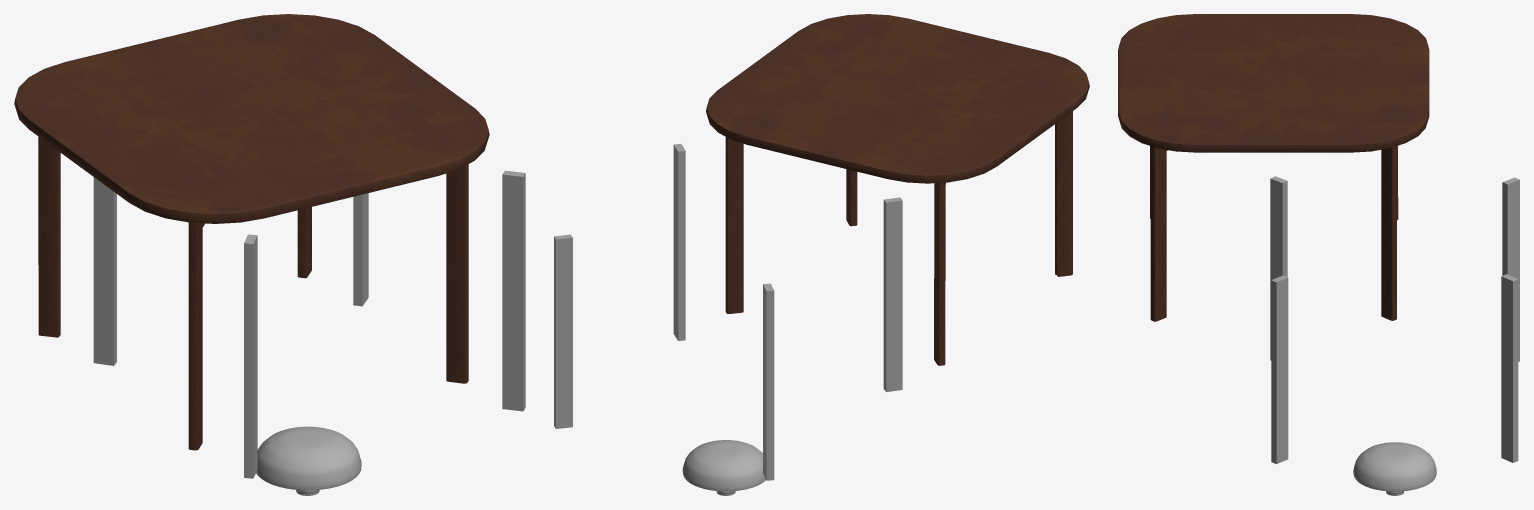
The model's file is SM_TableN.fbx.
The picture shows the model from 3 angles, left to right: view 1: azimuth 30°, elevation 25°; view 2: azimuth 150°, elevation 25°; view 3: azimuth 270°, elevation 25°; orthographic projection. The views are drawn at different scales.
Visible parts, largest first — view 1: TableN, pCube11, pCylinder5, pCube14, pCube13, pCube12; view 2: TableN, pCube13, pCube12, pCylinder5, pCube11, pCube14; view 3: TableN, pCylinder5, pCube12, pCube11, pCube13, pCube14.
Boxes of the visible parts, x1,y1,x2,y2 form: TableN: [14, 14, 489, 450]; pCube11: [502, 170, 525, 411]; pCylinder5: [256, 426, 361, 495]; pCube14: [93, 177, 116, 365]; pCube13: [244, 234, 257, 478]; pCube12: [353, 193, 368, 306]; TableN: [706, 14, 1089, 365]; pCube13: [883, 197, 902, 392]; pCube12: [554, 234, 572, 428]; pCylinder5: [682, 440, 765, 495]; pCube11: [673, 144, 685, 340]; pCube14: [763, 283, 774, 480]; TableN: [1118, 14, 1429, 321]; pCylinder5: [1353, 442, 1436, 495]; pCube12: [1501, 274, 1518, 462]; pCube11: [1271, 275, 1288, 463]; pCube13: [1270, 176, 1287, 360]; pCube14: [1502, 177, 1519, 361].
Size of the model in its own units: 177 by 176 by 176.
2 materials, 1 textured.
